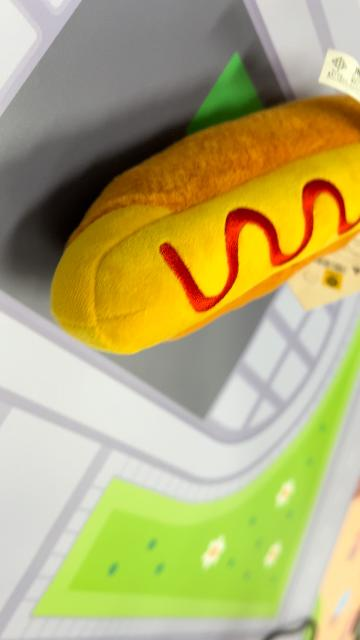hotdog: (49, 93, 359, 357)
